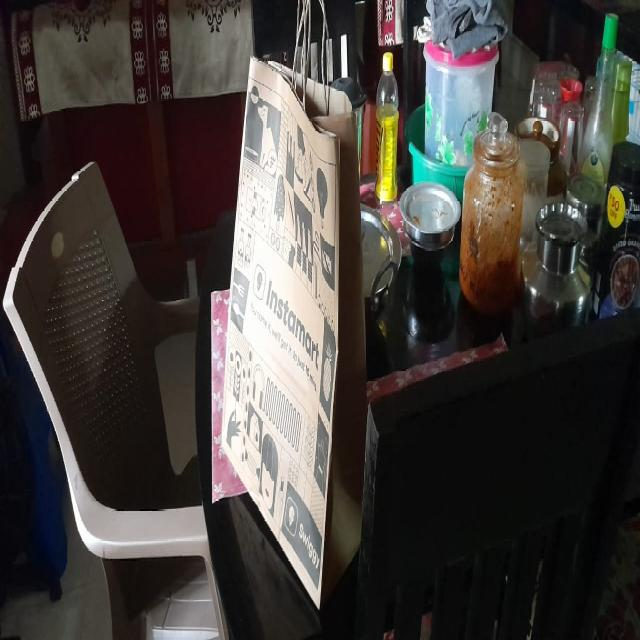Paper_Bag - Recyclable: (217, 53, 343, 611)
